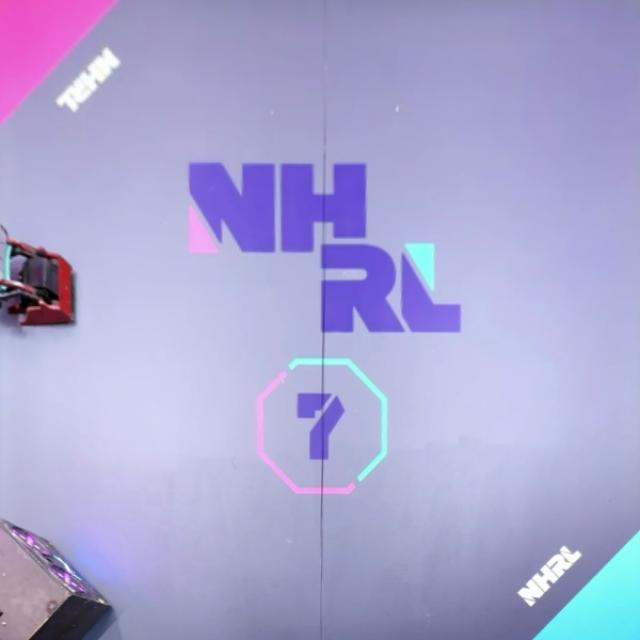housebot: (0, 518, 111, 640)
robot: (0, 227, 76, 325), (0, 227, 15, 305)
